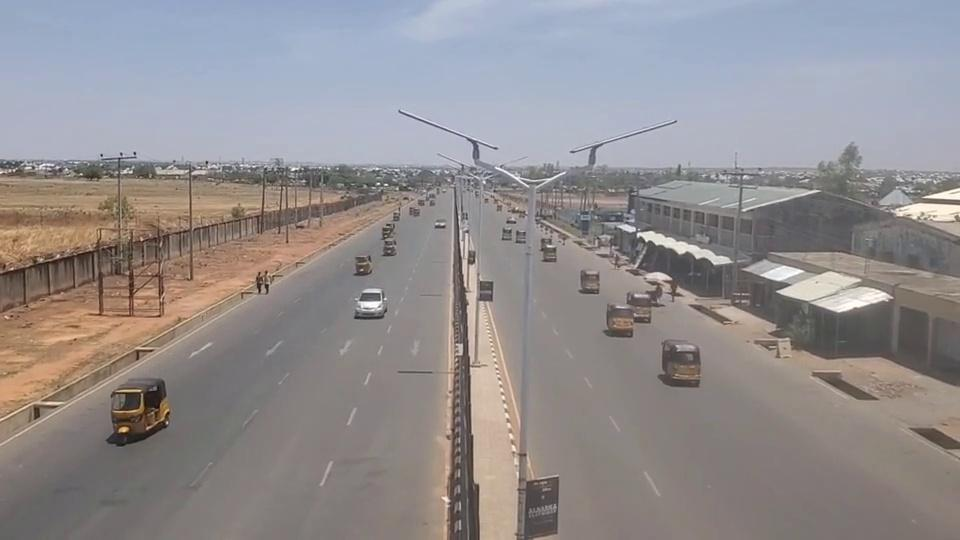keke: (109, 376, 170, 443), (661, 338, 701, 386)
